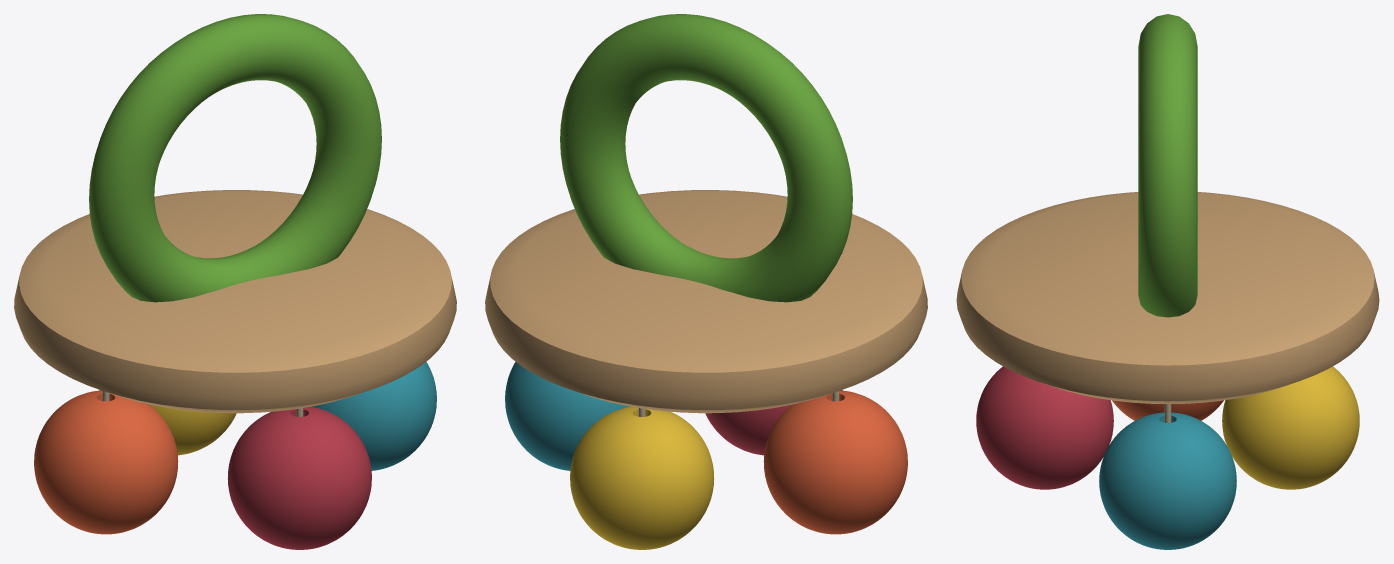
3 renders of one model, left to right at view 1: azimuth 30°, elevation 25°; view 2: azimuth 150°, elevation 25°; view 3: azimuth 270°, elevation 25°, orthographic. The views are drawn at different scales.
Parts seen in each view (by area): view 1: Rounded wooden base, Round open grip, Bead3 with real axial bore, Bead0 with real axial bore, Bead1 with real axial bore, Bead2 with real axial bore; view 2: Rounded wooden base, Round open grip, Bead2 with real axial bore, Bead0 with real axial bore, Bead1 with real axial bore, Bead3 with real axial bore; view 3: Rounded wooden base, Round open grip, Bead1 with real axial bore, Bead2 with real axial bore, Bead3 with real axial bore, Bead0 with real axial bore.
Part boxes in pixels (box(x1,y1,x2,y2)): Rounded wooden base: box(14, 190, 456, 413); Round open grip: box(89, 14, 381, 302); Bead3 with real axial bore: box(227, 406, 371, 549); Bead0 with real axial bore: box(34, 390, 178, 534); Bead1 with real axial bore: box(312, 362, 436, 470); Bead2 with real axial bore: box(99, 390, 236, 455); Rounded wooden base: box(485, 190, 927, 413); Round open grip: box(560, 14, 852, 302); Bead2 with real axial bore: box(570, 406, 714, 549); Bead0 with real axial bore: box(763, 390, 907, 534); Bead1 with real axial bore: box(505, 362, 629, 470); Bead3 with real axial bore: box(705, 390, 842, 455); Rounded wooden base: box(956, 192, 1379, 404); Round open grip: box(1138, 14, 1197, 317); Bead1 with real axial bore: box(1099, 412, 1236, 549); Bead2 with real axial bore: box(1222, 366, 1359, 489); Bead3 with real axial bore: box(976, 366, 1113, 489); Bead0 with real axial bore: box(1112, 400, 1223, 420).
Bounding box in the file's own units: 0.086 × 0.1019 × 0.086.
